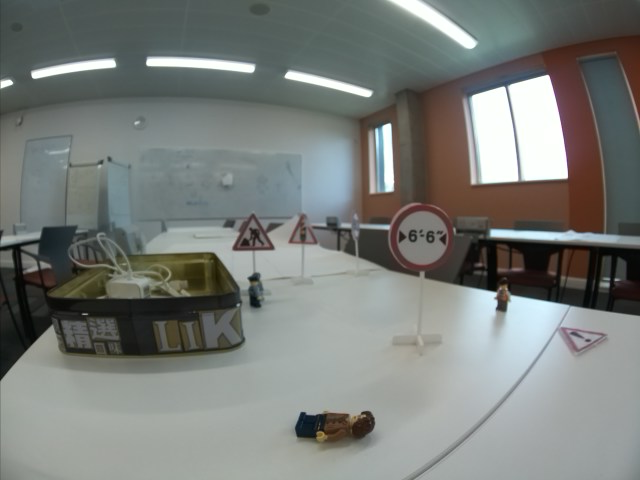6ft6: (387, 204, 454, 271)
Lego Man: (292, 406, 381, 443), (246, 272, 269, 307), (494, 275, 510, 314)
Roadworks: (230, 212, 278, 250)
Traffic lights: (288, 216, 320, 244)
Warning: (559, 323, 608, 356)
